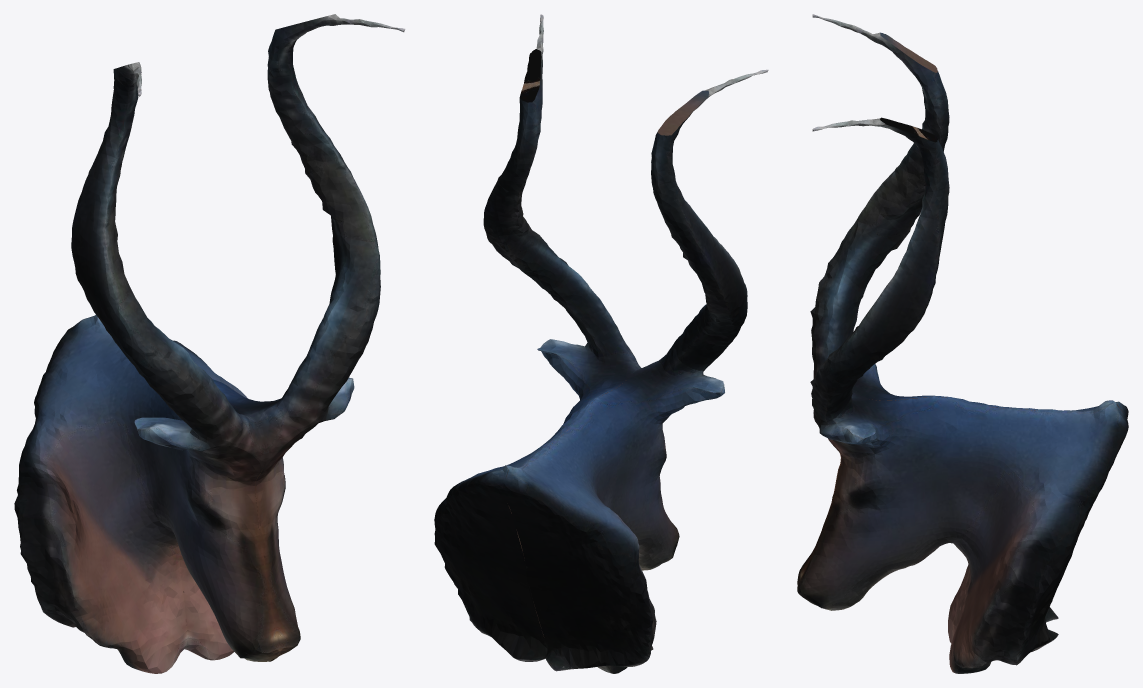
3 renders of one model, left to right at view 1: azimuth 30°, elevation 25°; view 2: azimuth 150°, elevation 25°; view 3: azimuth 270°, elevation 25°, orthographic. The views are drawn at different scales.
Parts seen in each view (by area): view 1: Mesh_0.001; view 2: Mesh_0.001; view 3: Mesh_0.001.
Part boxes in pixels (bbox=[...]): Mesh_0.001: bbox=[14, 14, 405, 673]; Mesh_0.001: bbox=[434, 14, 768, 673]; Mesh_0.001: bbox=[797, 14, 1128, 673].
Bounding box in the file's own units: 0.4363 × 1 × 0.5121.
Materials: 1 (1 with a texture image).
